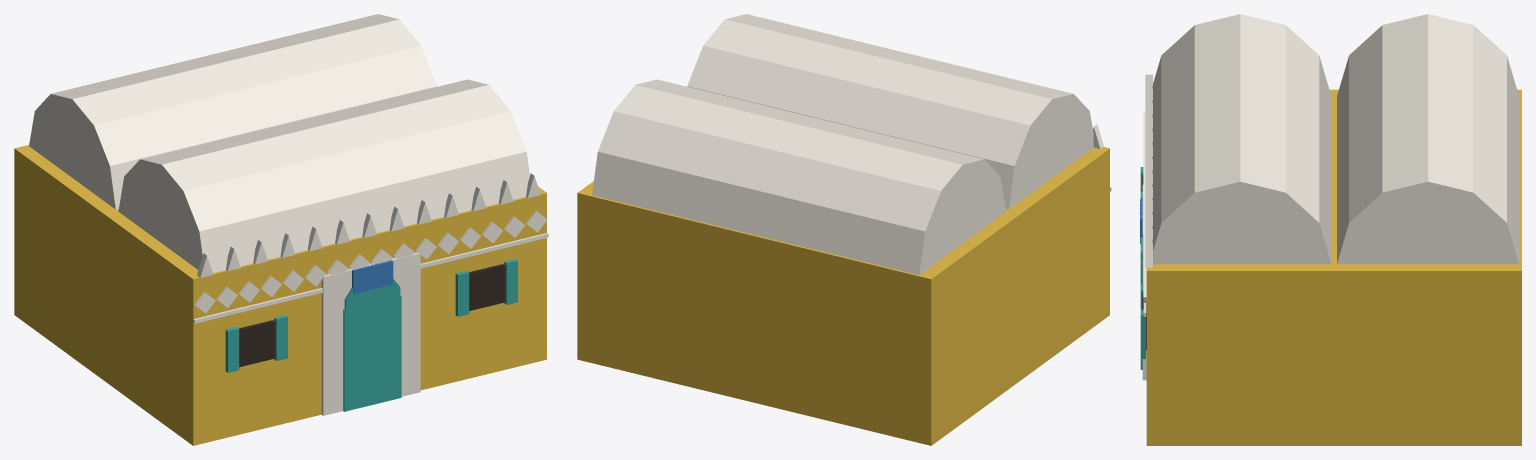
File: hus_nubisk_2.glb
3 renders of one model, left to right at view 1: azimuth 30°, elevation 25°; view 2: azimuth 150°, elevation 25°; view 3: azimuth 270°, elevation 25°, orthographic. The views are drawn at different scales.
Parts seen in each view (by area): view 1: hus_nubisk_2; view 2: hus_nubisk_2; view 3: hus_nubisk_2.
Boxes of the visible parts, left/top/right/bottom form: hus_nubisk_2: left=14, top=14, right=548, bottom=445; hus_nubisk_2: left=577, top=14, right=1111, bottom=445; hus_nubisk_2: left=1140, top=14, right=1521, bottom=445.
Size of the model in its own units: 8 by 5.3 by 7.12.
